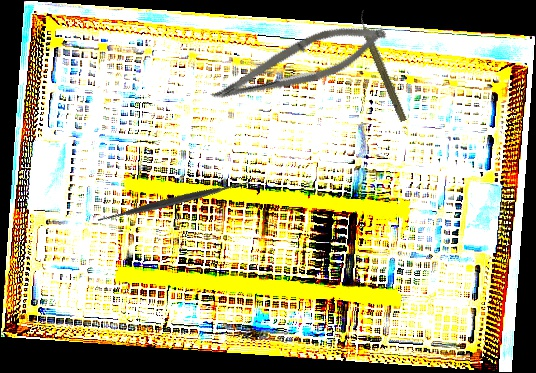Handpiece: (352, 8, 412, 124)
Micro Scissor: (204, 7, 393, 124)
Spatula Surgical: (91, 118, 256, 285)
